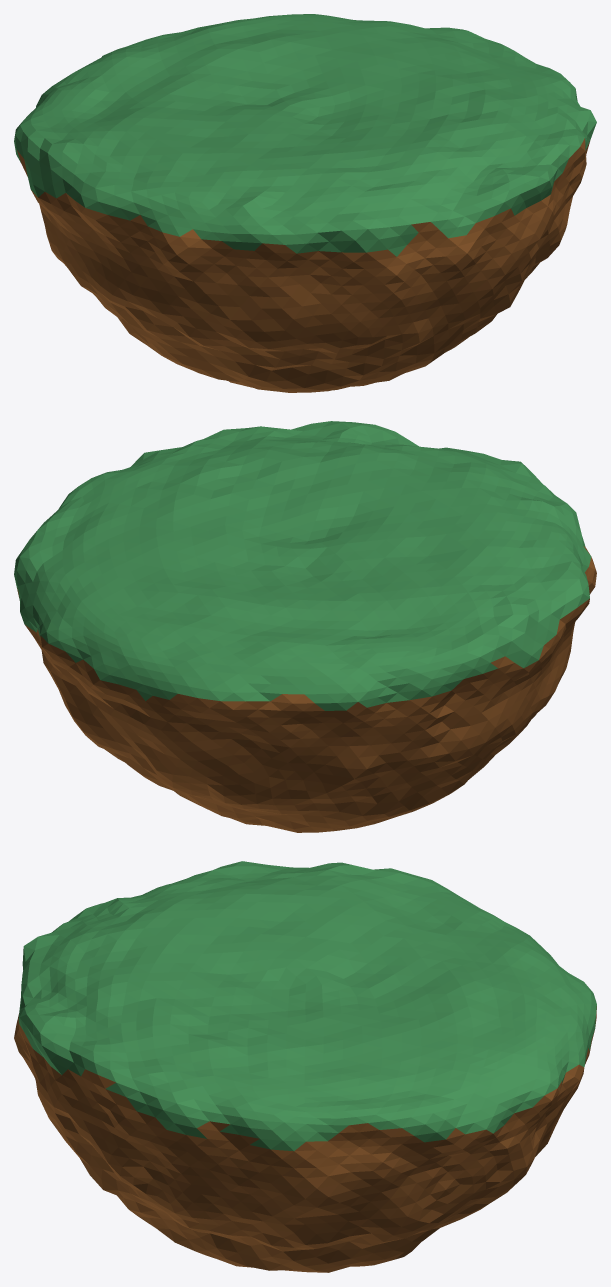
The model's file is island4.fbx.
3 views of the same model, one above another, from view 1: azimuth 30°, elevation 25°; view 2: azimuth 150°, elevation 25°; view 3: azimuth 270°, elevation 25° (orthographic).
Visible parts, largest first — view 1: Icosphere.013; view 2: Icosphere.013; view 3: Icosphere.013.
Boxes of the visible parts, box(x1,y1,x2,y2) form: Icosphere.013: box(14, 14, 596, 392); Icosphere.013: box(14, 421, 596, 832); Icosphere.013: box(14, 861, 596, 1272).
Size of the model in its own units: 63326 by 33426 by 62642.
